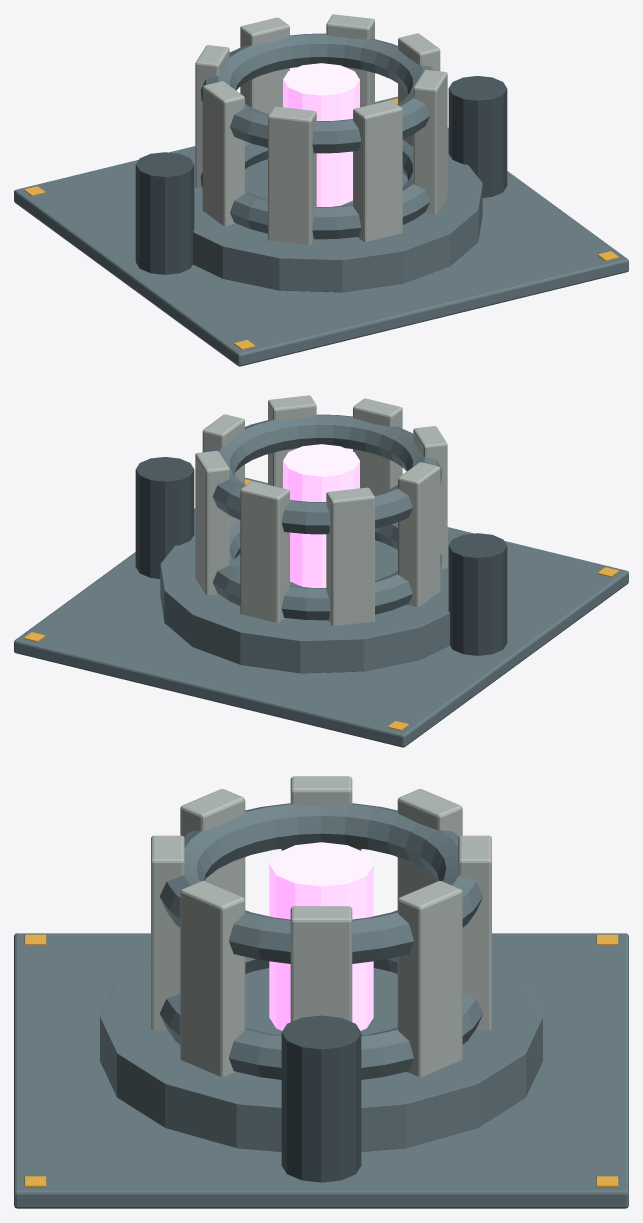
Rendered from utility_reactor_d0.glb.
The picture shows the model from 3 angles, top to bottom: view 1: azimuth 30°, elevation 25°; view 2: azimuth 150°, elevation 25°; view 3: azimuth 270°, elevation 25°; orthographic projection. The views are drawn at different scales.
Parts seen in each view (by area): view 1: Foundation.016, Reactor plinth, Field containment toroid.001, Coolant reservoir, Containment fin.005, Containment fin.006, Coolant reservoir.001, Central field column, Containment fin.004, Field containment toroid, Containment fin.007, Containment fin.002 (+3 smaller); view 2: Foundation.016, Reactor plinth, Field containment toroid.001, Coolant reservoir, Containment fin.003, Containment fin.002, Coolant reservoir.001, Central field column, Containment fin.004, Field containment toroid, Containment fin.001, Containment fin.006 (+3 smaller); view 3: Foundation.016, Reactor plinth, Field containment toroid.001, Coolant reservoir.001, Containment fin.001, Containment fin.007, Central field column, Containment fin, Field containment toroid, Containment fin.002, Containment fin.006, Containment fin.003 (+2 smaller).
Part boxes in pixels (<box>): Foundation.016: <box>14,96,628,366</box>; Reactor plinth: <box>185,149,482,292</box>; Field containment toroid.001: <box>200,33,433,153</box>; Coolant reservoir: <box>135,152,194,274</box>; Containment fin.005: <box>268,106,316,244</box>; Containment fin.006: <box>353,100,402,241</box>; Coolant reservoir.001: <box>448,76,507,197</box>; Central field column: <box>283,63,359,206</box>; Containment fin.004: <box>202,81,244,225</box>; Field containment toroid: <box>200,139,430,239</box>; Containment fin.007: <box>413,69,447,214</box>; Containment fin.002: <box>240,17,289,113</box>; Foundation.016: <box>14,477,628,747</box>; Reactor plinth: <box>160,530,457,673</box>; Field containment toroid.001: <box>209,414,442,534</box>; Coolant reservoir: <box>448,533,507,655</box>; Containment fin.003: <box>326,487,374,625</box>; Containment fin.002: <box>240,481,289,622</box>; Coolant reservoir.001: <box>135,457,194,578</box>; Central field column: <box>283,444,359,587</box>; Containment fin.004: <box>398,462,440,606</box>; Field containment toroid: <box>212,520,442,620</box>; Containment fin.001: <box>195,450,229,595</box>; Containment fin.006: <box>353,398,402,494</box>; Foundation.016: <box>14,933,628,1208</box>; Reactor plinth: <box>100,960,542,1151</box>; Field containment toroid.001: <box>159,803,483,963</box>; Coolant reservoir.001: <box>281,1015,361,1182</box>; Containment fin.001: <box>397,881,462,1076</box>; Containment fin.007: <box>180,881,245,1076</box>; Central field column: <box>269,842,373,1030</box>; Containment fin: <box>290,906,352,1021</box>; Field containment toroid: <box>159,956,483,1079</box>; Containment fin.002: <box>458,835,491,1030</box>; Containment fin.006: <box>151,835,184,1030</box>; Containment fin.003: <box>397,789,462,899</box>.
Size of the model in its own units: 10 by 4.17 by 10.
